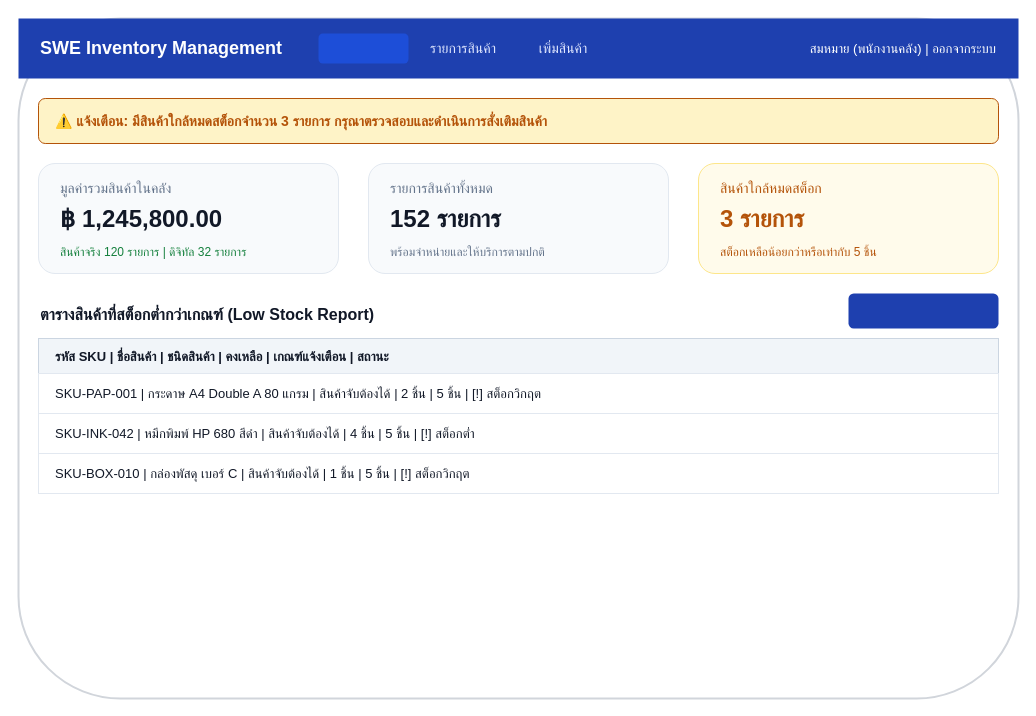
Image size: 1036x716. Some labels were removed from this diagram. The box of each missing label's shape, as (x1, y1, x2, y2) in pixels:
+ เพิ่มสินค้าใหม่: (848, 293, 998, 328)
แดชบอร์ด: (318, 33, 408, 63)
